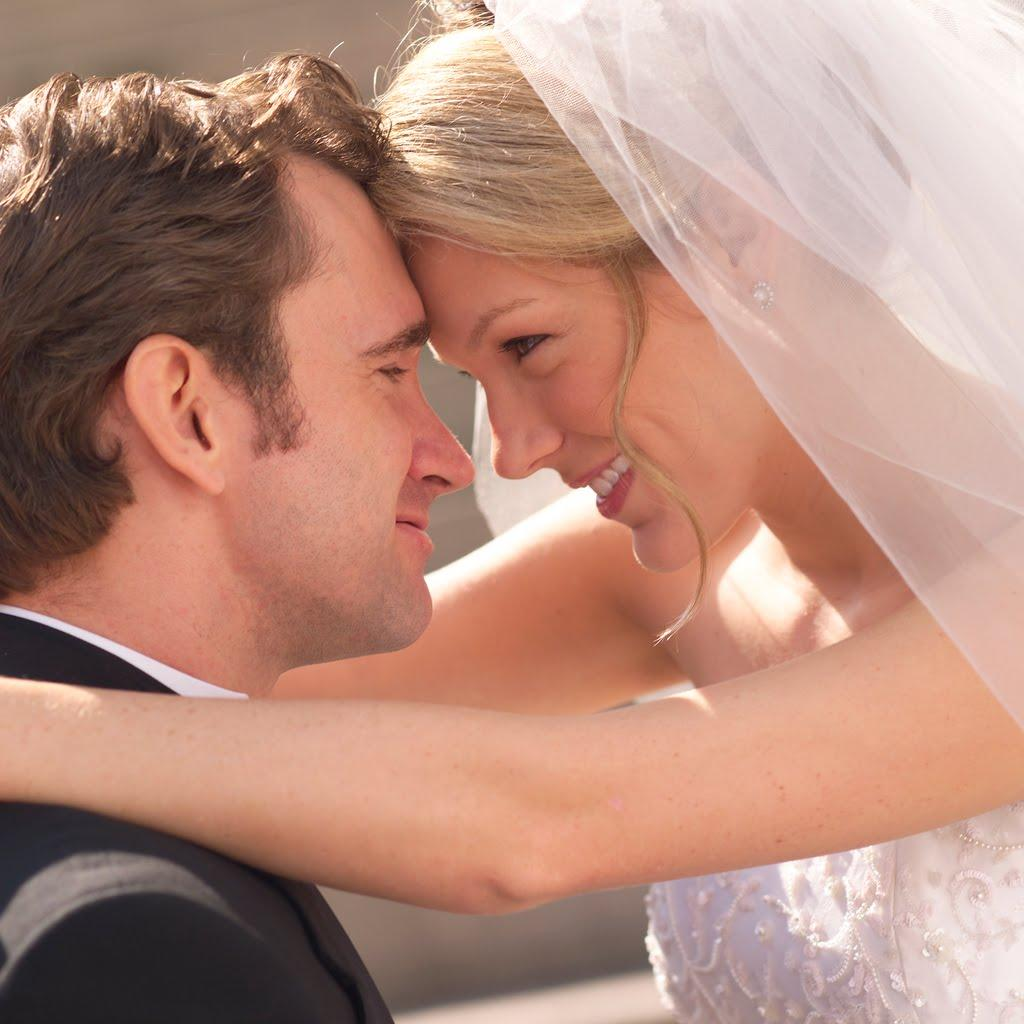face: (402, 194, 750, 578), (206, 160, 480, 644)
